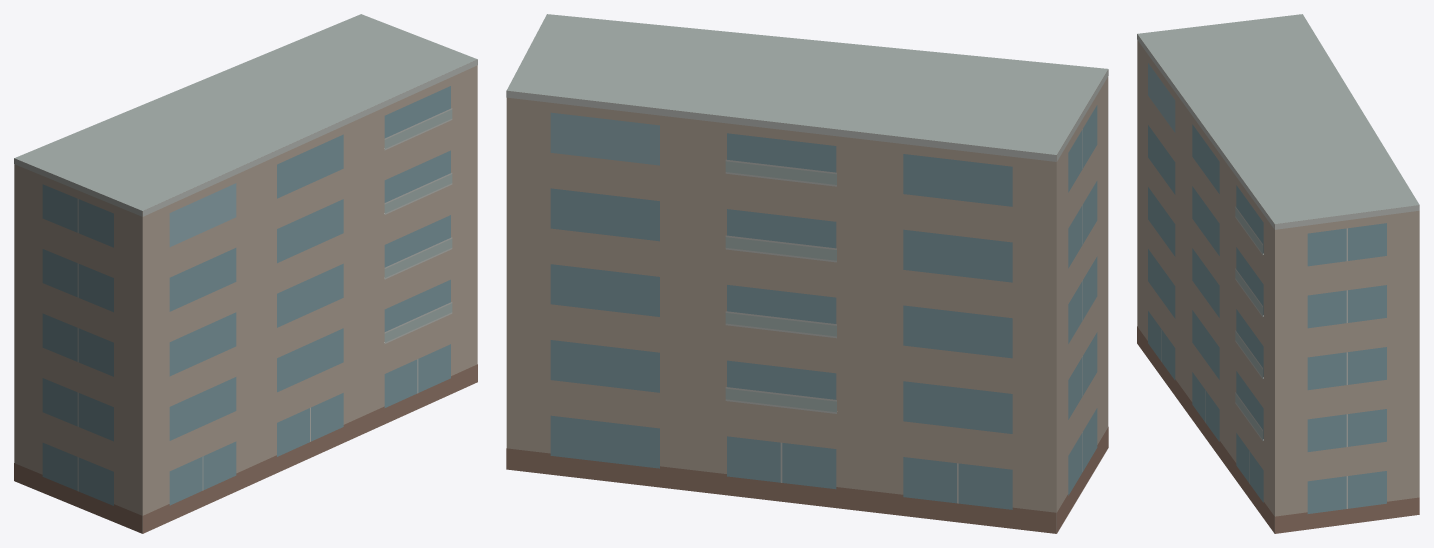
The model's file is survey-upis-32680139.glb.
3 renders of one model, left to right at view 1: azimuth 30°, elevation 25°; view 2: azimuth 150°, elevation 25°; view 3: azimuth 270°, elevation 25°, orthographic. The views are drawn at different scales.
Visible parts, largest first — view 1: survey-upis-32680139.tmp; view 2: survey-upis-32680139.tmp; view 3: survey-upis-32680139.tmp.
Boxes of the visible parts, x1,y1,x2,y2 form: survey-upis-32680139.tmp: (14, 14, 477, 533); survey-upis-32680139.tmp: (506, 14, 1108, 533); survey-upis-32680139.tmp: (1137, 14, 1419, 533).
Bounding box in the file's own units: 19.37 × 13.3 × 11.01.
